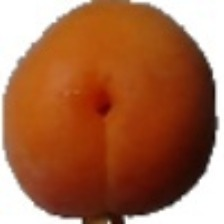apricot: (60, 40, 205, 177)
